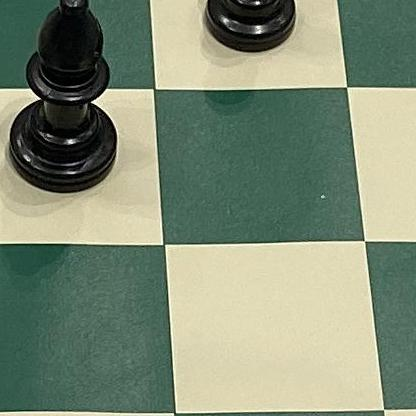black-bishop: (0, 0, 138, 209)
black-pawn: (198, 0, 303, 67)
